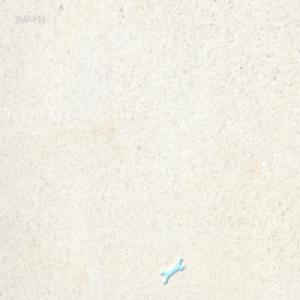Wrench: (161, 253, 185, 280)
